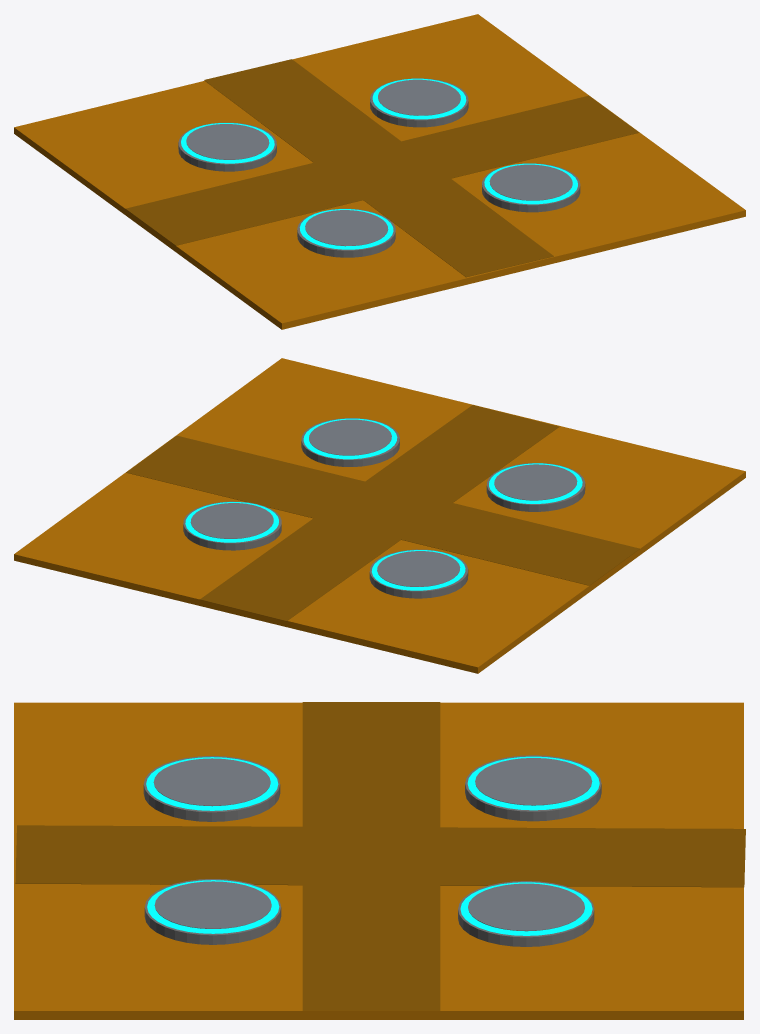
The model's file is Purchased Plot (1).fbx.
3 renders of one model, top to bottom at view 1: azimuth 30°, elevation 25°; view 2: azimuth 150°, elevation 25°; view 3: azimuth 270°, elevation 25°, orthographic. The views are drawn at different scales.
Parts seen in each view (by area): view 1: Cube, Cube.001, Cube.002, Cylinder.003, Cylinder.010, Cylinder.009, Cylinder.005, Cylinder.001, Cylinder.008, Cylinder.006, Cylinder.012, Cylinder.011 (+3 smaller); view 2: Cube, Cube.001, Cube.002, Cylinder.009, Cylinder.010, Cylinder.003, Cylinder.005, Cylinder.008, Cylinder.001, Cylinder.006, Cylinder.012, Cylinder.011 (+3 smaller); view 3: Cube, Cube.001, Cube.002, Cylinder.005, Cylinder.010, Cylinder.009, Cylinder.003, Cylinder.012, Cylinder.001, Cylinder.008, Cylinder.006, Cylinder.004 (+3 smaller).
Boxes of the visible parts, x1,y1,x2,y2 form: Cube: (14, 14, 745, 329); Cube.001: (125, 95, 639, 245); Cube.002: (204, 59, 553, 277); Cylinder.003: (378, 79, 460, 115); Cylinder.010: (489, 164, 572, 200); Cylinder.009: (305, 210, 388, 246); Cylinder.005: (186, 124, 269, 159); Cylinder.001: (297, 208, 395, 257); Cylinder.008: (178, 122, 276, 171); Cylinder.006: (370, 78, 468, 127); Cylinder.012: (482, 163, 580, 212); Cylinder.011: (484, 163, 577, 204); Cube: (14, 358, 745, 673); Cube.001: (126, 435, 639, 585); Cube.002: (200, 405, 559, 621); Cylinder.009: (494, 464, 577, 500); Cylinder.010: (309, 419, 391, 455); Cylinder.003: (190, 503, 273, 538); Cylinder.005: (377, 551, 460, 586); Cylinder.008: (369, 549, 468, 598); Cylinder.001: (486, 463, 585, 511); Cylinder.006: (183, 501, 281, 550); Cylinder.012: (301, 418, 399, 466); Cylinder.011: (303, 418, 397, 459); Cube: (14, 702, 743, 1019); Cube.001: (302, 702, 440, 1010); Cube.002: (15, 825, 745, 887); Cylinder.005: (475, 758, 592, 805); Cylinder.010: (154, 881, 271, 928); Cylinder.009: (153, 758, 270, 806); Cylinder.003: (468, 883, 584, 931); Cylinder.012: (144, 879, 281, 944); Cylinder.001: (143, 756, 280, 821); Cylinder.008: (465, 755, 601, 821); Cylinder.006: (458, 881, 594, 946); Cylinder.004: (460, 882, 592, 935).
Size of the model in its own units: 150 by 4.67 by 150.
